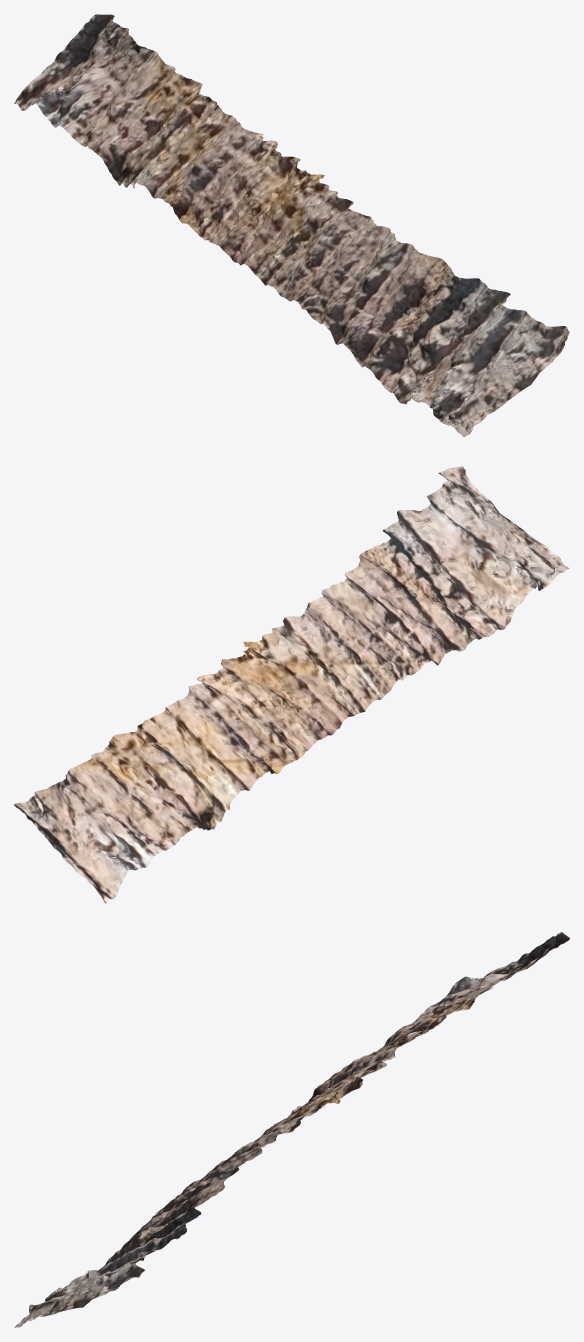
The picture shows the model from 3 angles, top to bottom: view 1: azimuth 30°, elevation 25°; view 2: azimuth 150°, elevation 25°; view 3: azimuth 330°, elevation 25°; orthographic projection. The views are drawn at different scales.
Size of the model in its own units: 1.12 by 0.8056 by 7.63.
Materials: 1 (1 with a texture image).
